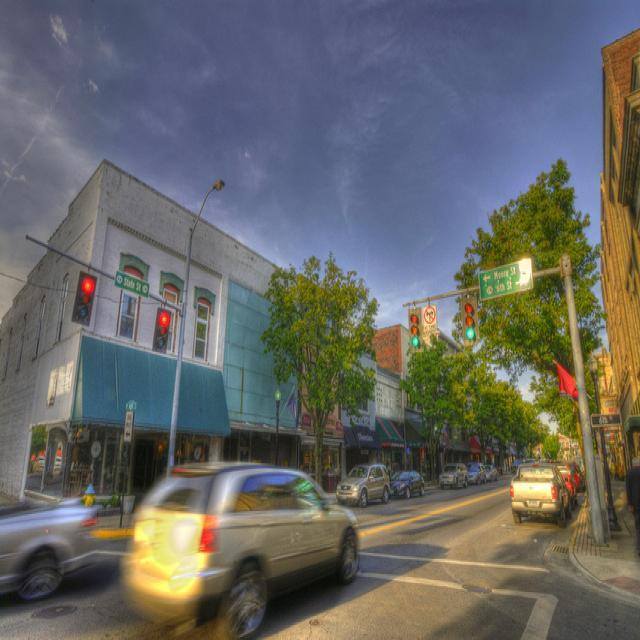fire_hydrant: (82, 482, 95, 506)
